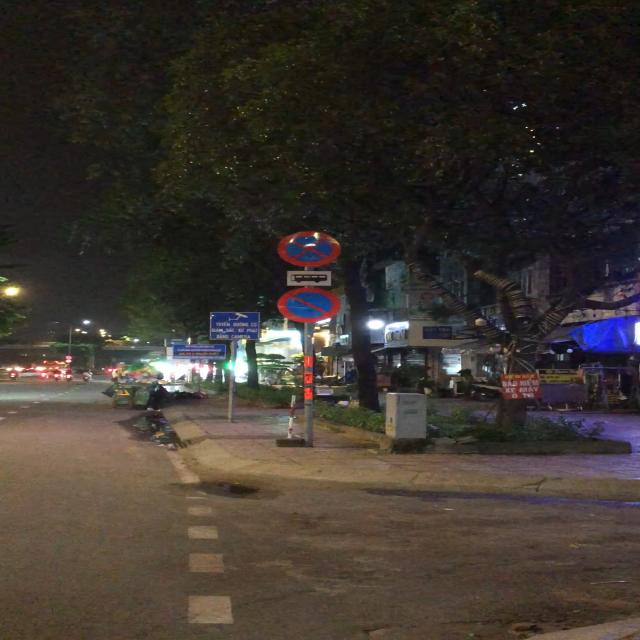Bien bao cam do xe: (275, 284, 348, 326)
Bien bao cam dung xe va do xe: (273, 228, 346, 268)
